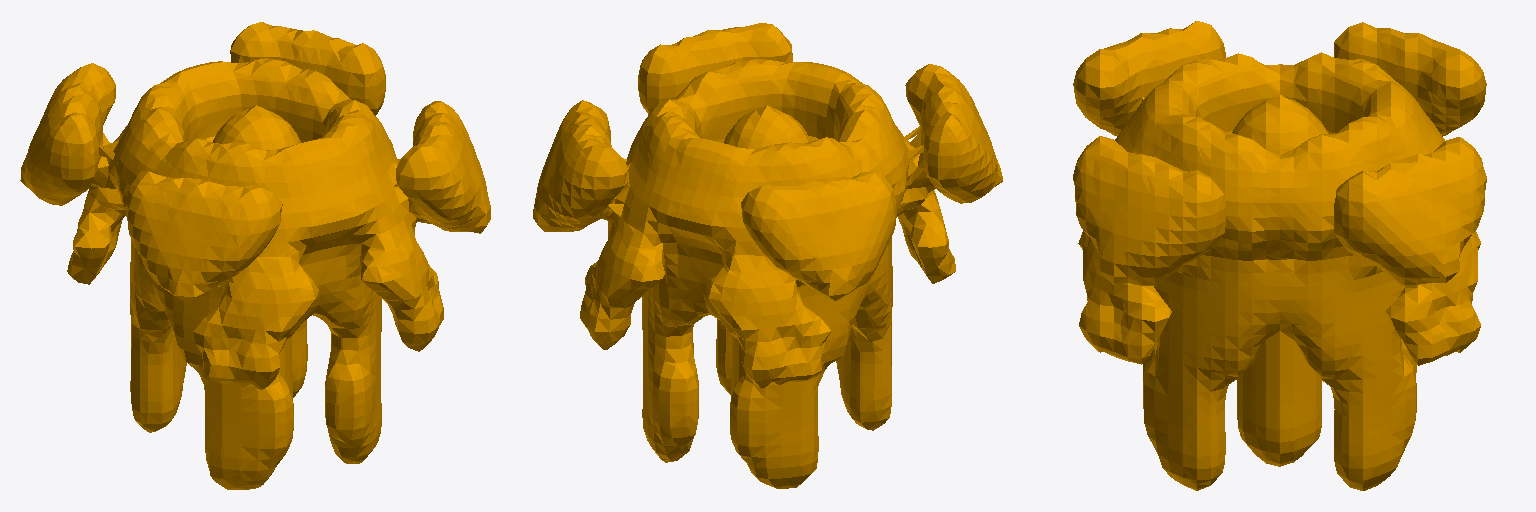
URDF robot description (J23_1):
<?xml version="1.0"?>
<robot name="J23_1">
  <link name="base_link">
    <inertial>
      <mass value="0.10827" />
      <origin xyz="0 0 0" />
      <inertia  ixx="0.0002" ixy="0.0"  ixz="0.0"  iyy="0.0002"  iyz="0.0" izz="0.0002" />
    </inertial>
    <visual>
      <geometry>
        <mesh filename="../../../meshes/egad/train/J23_1.obj" />
      </geometry>
    </visual>
    <collision>
      <geometry>
        <mesh filename="../../../meshes/egad/train/J23_1.obj" />
      </geometry>
    </collision>
  </link>
</robot>

--- What the picture shows (computed from the rendered views, not written in the file) ---
The picture shows the robot from 3 angles, left to right: view 1: azimuth 30°, elevation 25°; view 2: azimuth 150°, elevation 25°; view 3: azimuth 270°, elevation 25°; orthographic projection.
Model J23_1 with 1 links and 0 joints (none), rooted at base_link, posed all joints at 0.
Links seen in each view (by area): view 1: base_link; view 2: base_link; view 3: base_link.
Link boxes in pixels (bbox=[...]): base_link: bbox=[20, 22, 490, 489]; base_link: bbox=[533, 23, 1002, 488]; base_link: bbox=[1073, 21, 1486, 490].
Size in the robot's own frame: 0.0605 by 0.0605 by 0.06 metres.
1 mesh visuals loaded from 1 distinct referenced files (1 OBJ).